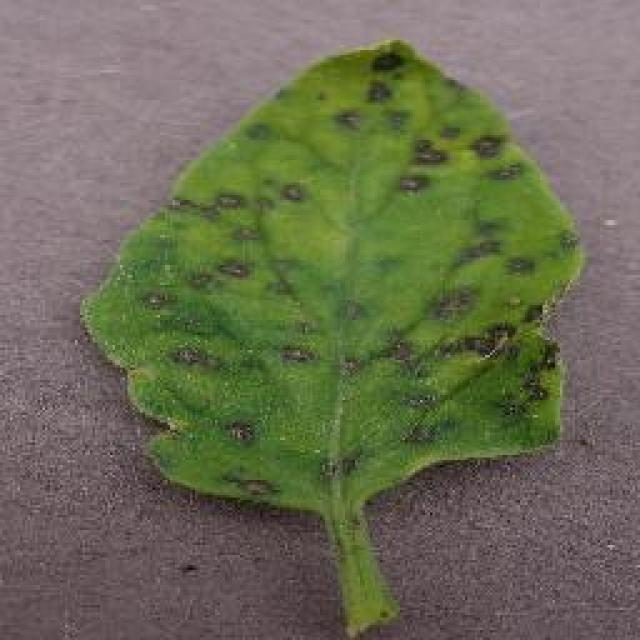Tom_Septoria_leaf_spot: (119, 172, 330, 502), (352, 229, 568, 456), (337, 45, 535, 204)
